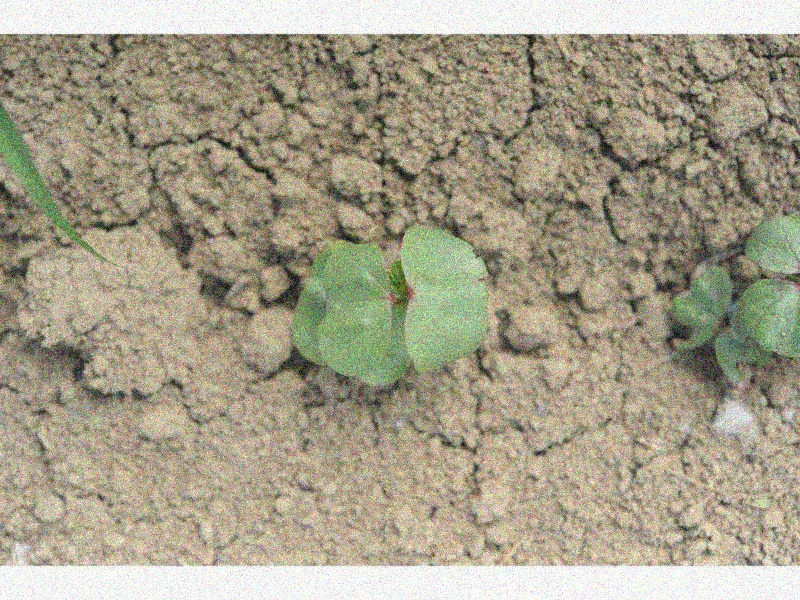cotton: (289, 223, 490, 388), (676, 211, 800, 379)
